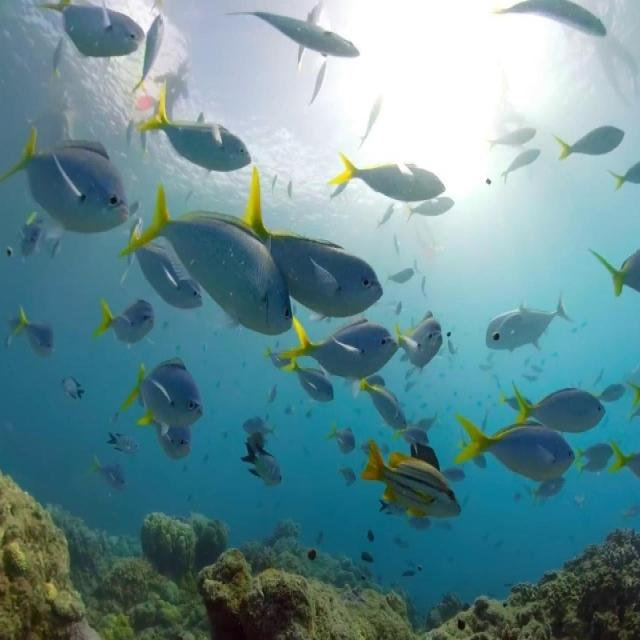fish: (115, 184, 293, 336), (246, 169, 384, 321), (0, 127, 130, 236), (134, 81, 251, 170), (230, 3, 360, 73), (452, 416, 576, 482), (359, 440, 462, 519), (275, 318, 399, 379), (121, 358, 203, 436), (42, 1, 145, 59), (329, 153, 447, 201), (484, 292, 576, 351), (512, 381, 607, 431), (497, 1, 606, 37), (397, 310, 443, 376), (93, 299, 154, 343), (554, 126, 625, 160)
sea-floor: (0, 474, 639, 639)
